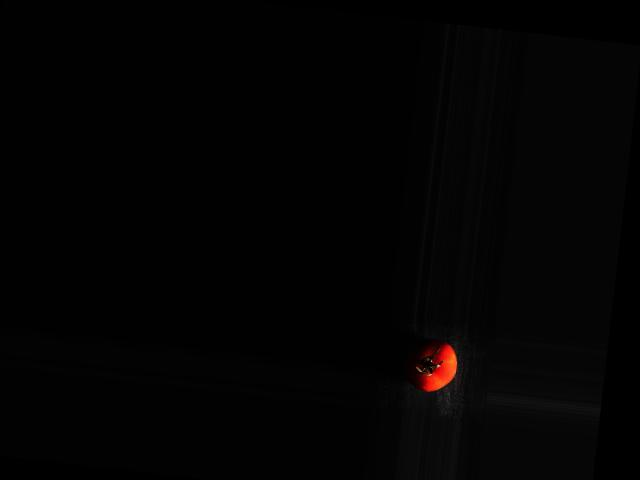tomato: (400, 336, 459, 394)
